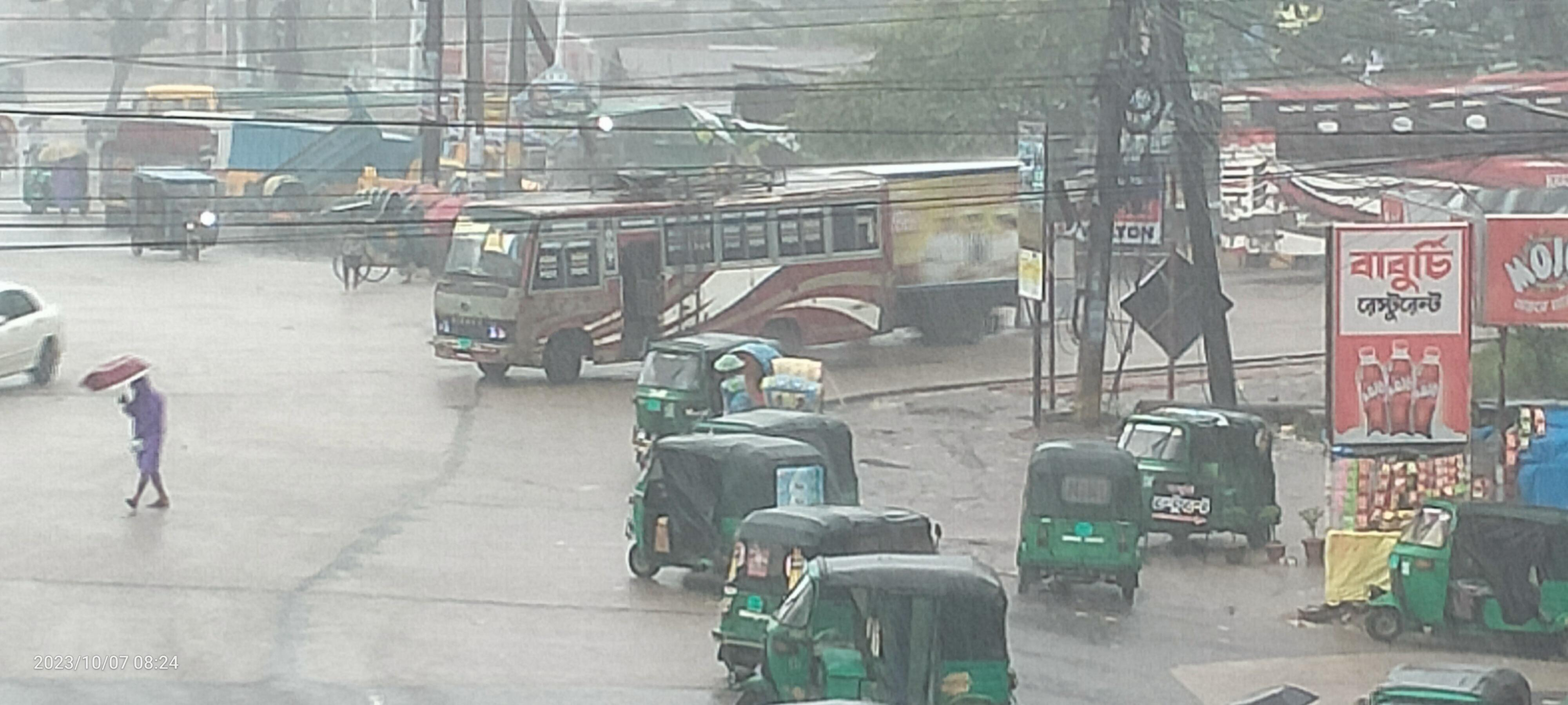Bus: (370, 155, 927, 407), (1198, 58, 1568, 302)
Car: (0, 266, 91, 423), (110, 161, 235, 274)
